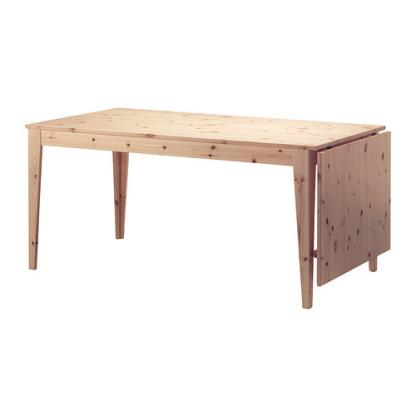Table: (21, 99, 395, 313)
